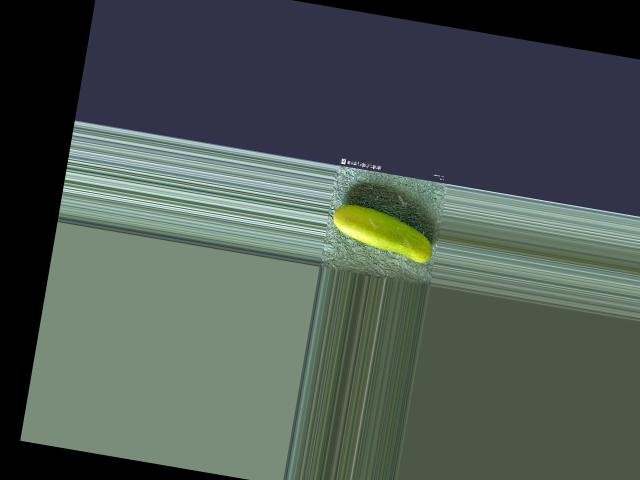cucumber: (328, 201, 438, 264)
